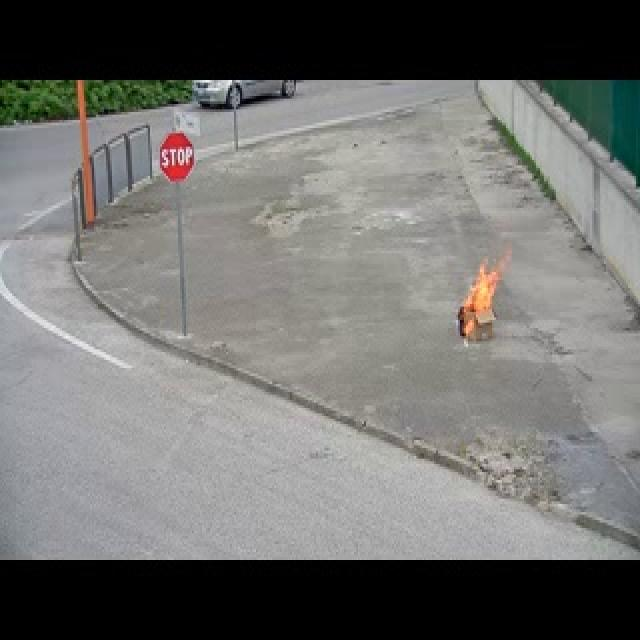fire: (470, 256, 500, 316)
